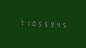five: (41, 19, 46, 28), (59, 20, 64, 29), (35, 19, 40, 27)
four: (53, 20, 58, 28)
nine: (47, 20, 52, 28)
one: (23, 18, 28, 27)
seven: (17, 18, 22, 26)
zero: (29, 19, 34, 27)
